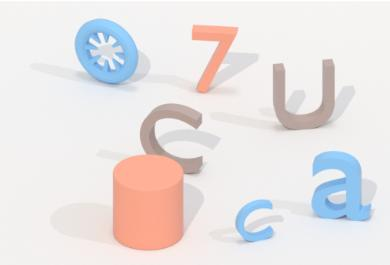0-KhoiTru: (107, 150, 191, 254)
0-TronLo: (70, 15, 141, 90)
7: (187, 19, 240, 97)
C: (134, 99, 209, 176), (229, 195, 279, 247)
U: (265, 55, 339, 133)
a: (307, 148, 375, 228)
